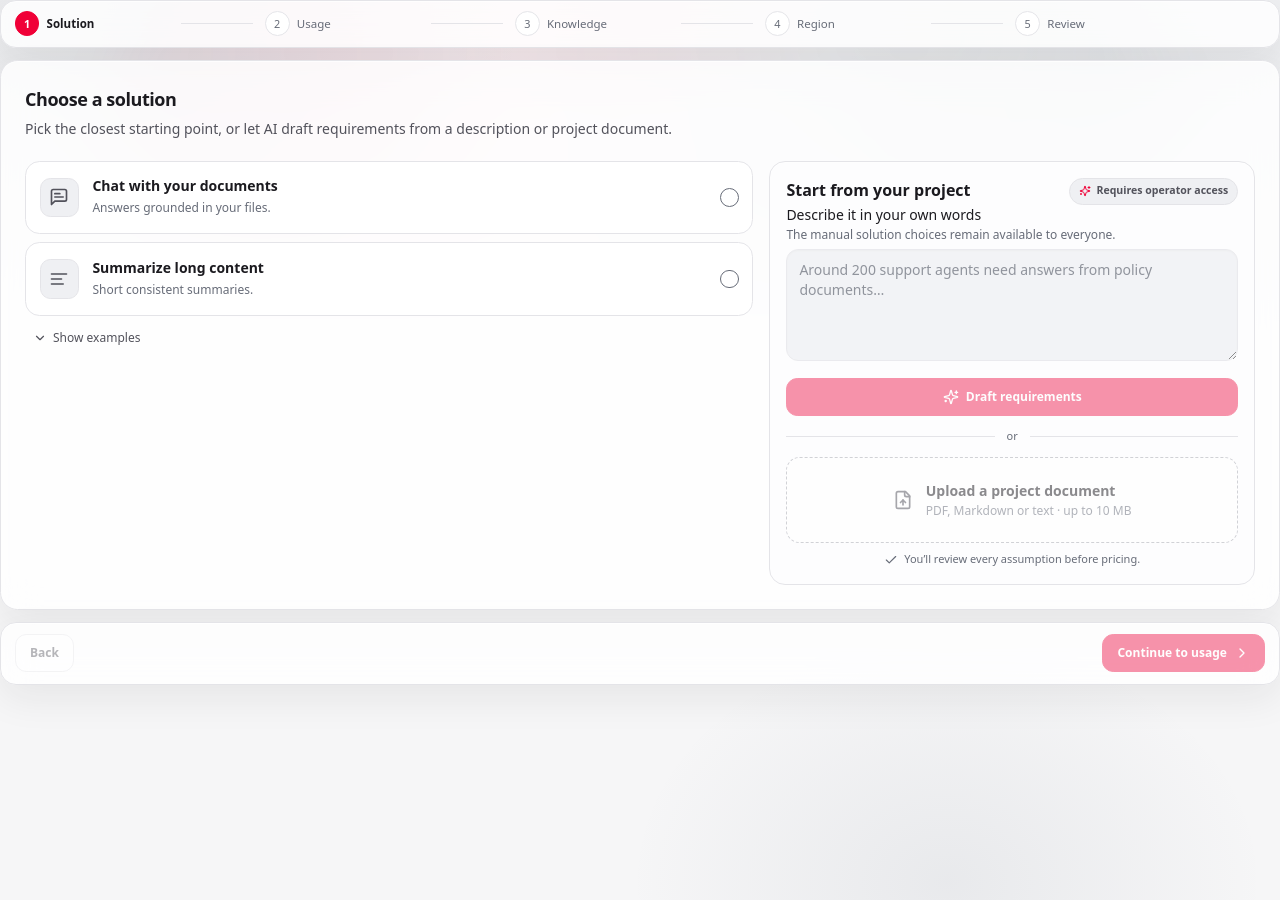
Test: examples stay behind an explicit disclosure
Expected: the text "What does our policy say" is not shown
Click the button "Show examples" at (87, 338), box [25,324,148,352]
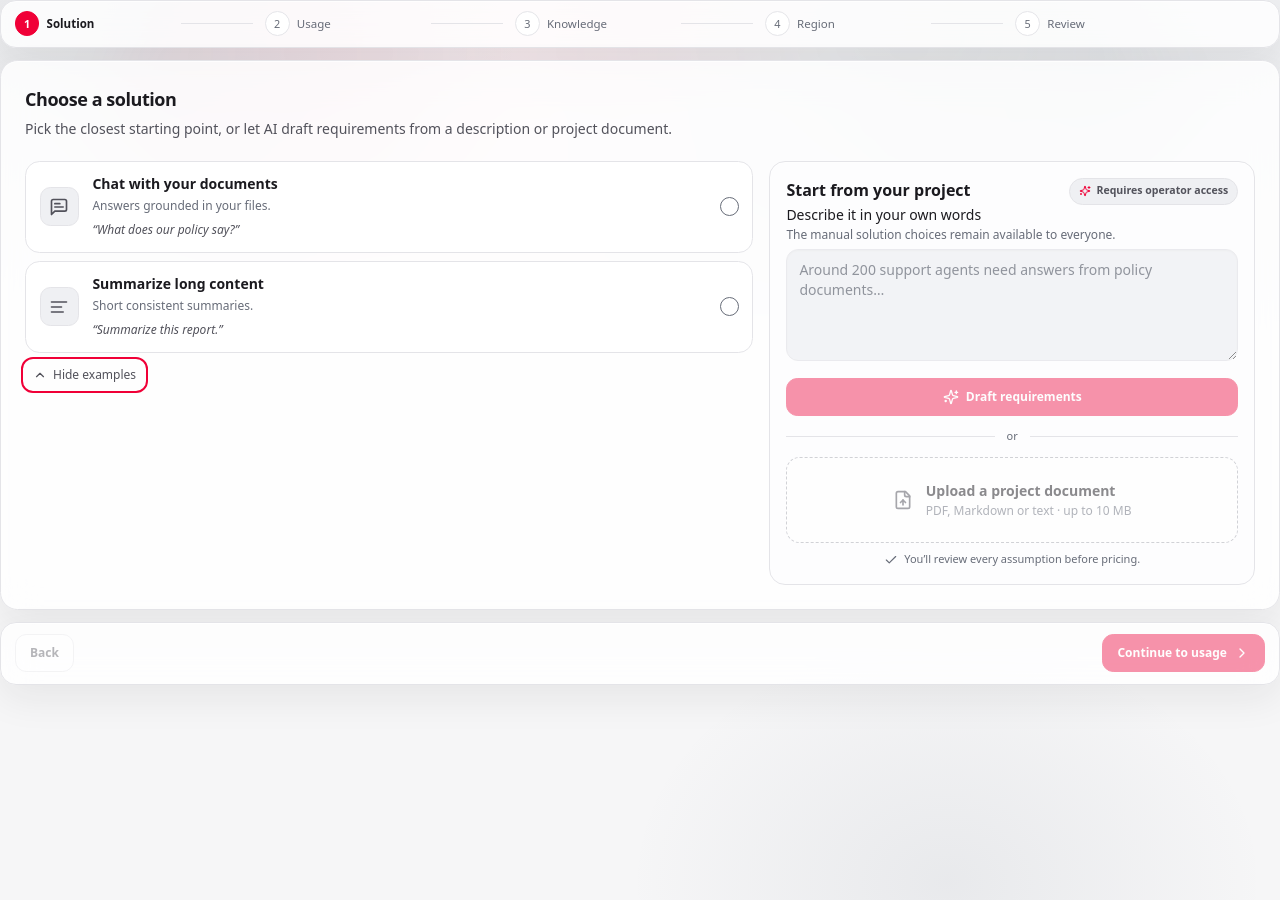
Expected: the text "“What does our policy say?”" is shown, [92,221,239,238]
Expected: the button "Hide examples" is expanded, [25,361,144,389]
